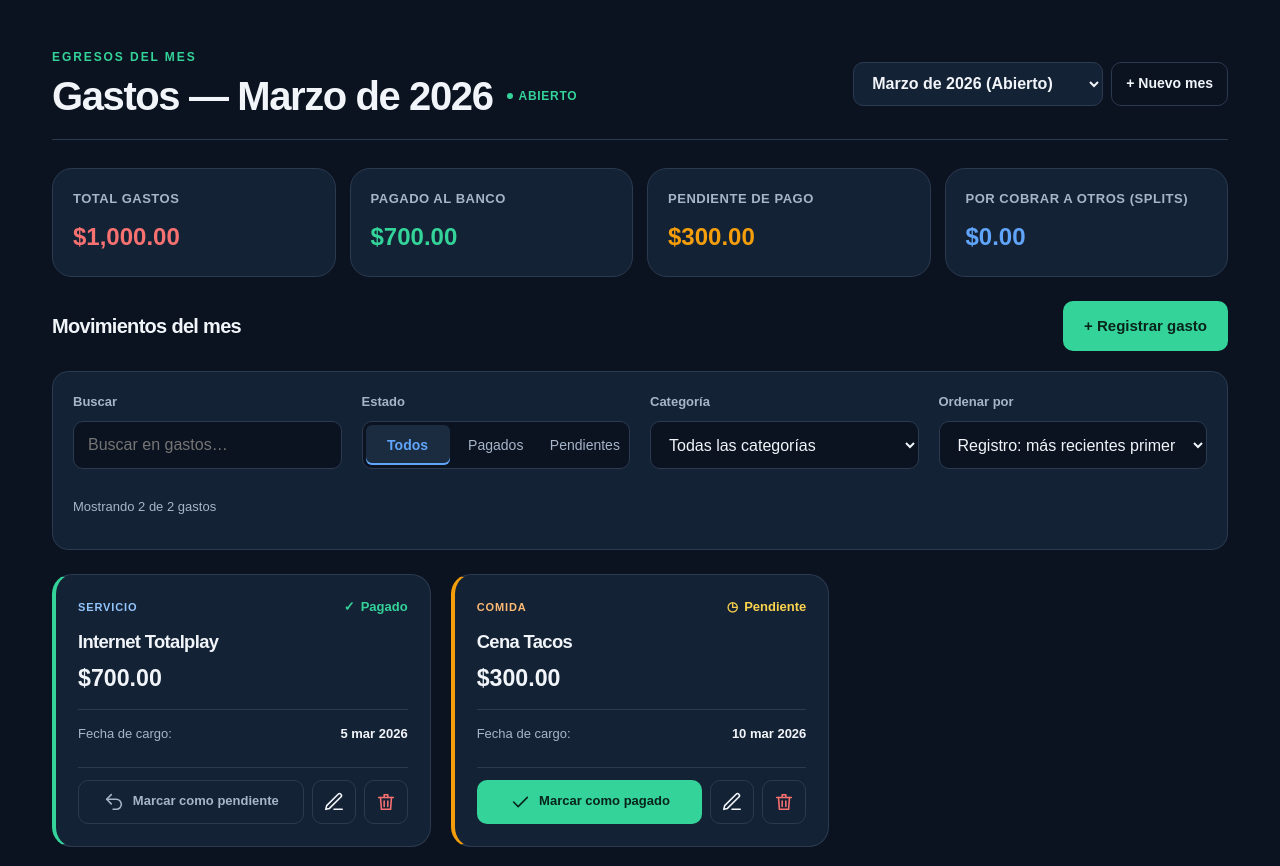
Test: TransactionsList › renders expenses list with metrics, search filter, and shows form when clicking button
Check: the heading "Internet Totalplay" is shown, box [78, 631, 218, 652]
Check: the heading "Cena Tacos" is shown, box [477, 631, 572, 652]
Note: Search filter
Type "Tacos" into the search field named "Buscar gastos". click: (207, 445)
box: [73, 421, 342, 469]
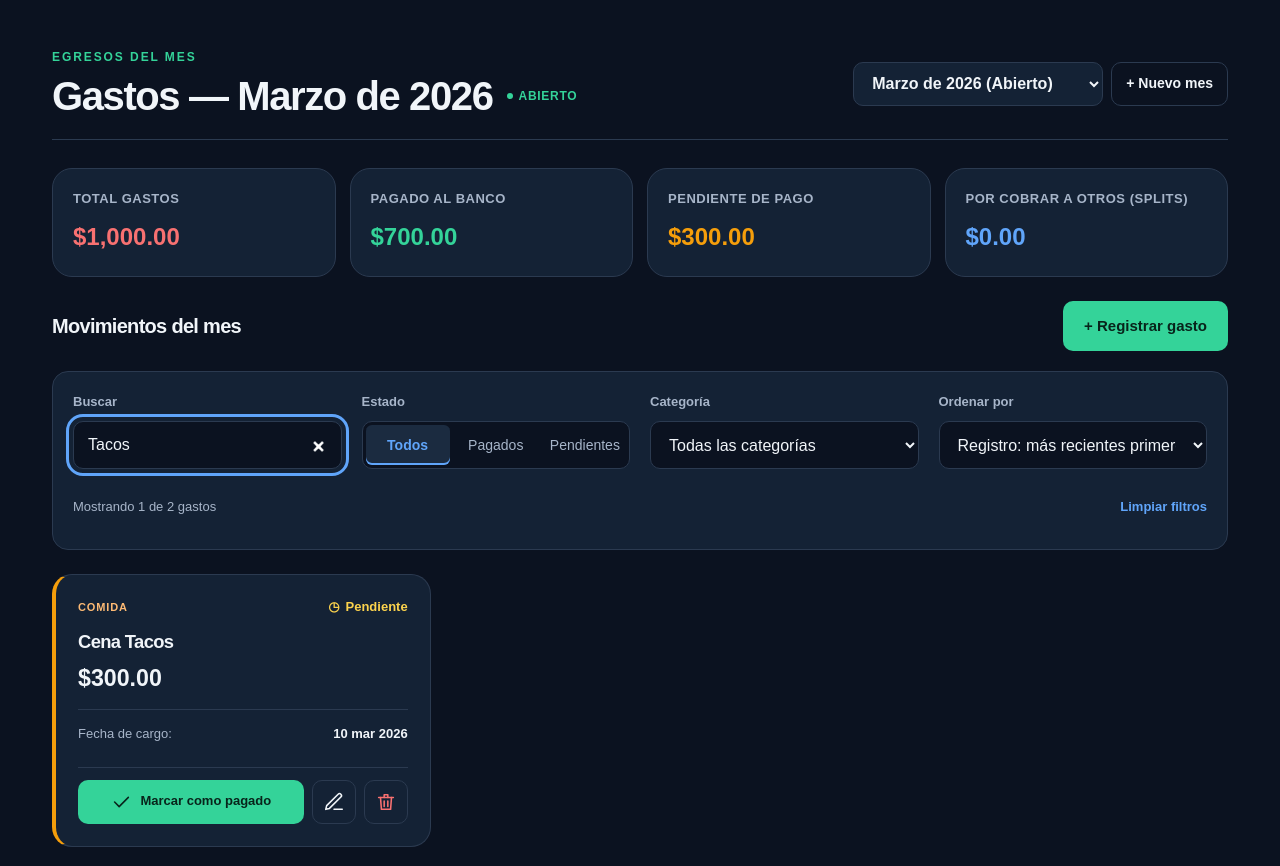
Check: the heading "Cena Tacos" is shown, box [78, 631, 173, 652]
Check: the heading "Internet Totalplay" is gone
Check: the text "Mostrando 1 de 2 gastos" is shown, box [73, 497, 216, 518]
Select "Servicio" in the dropdown labelled "Categoría". click: (784, 445)
box: [650, 421, 918, 469]
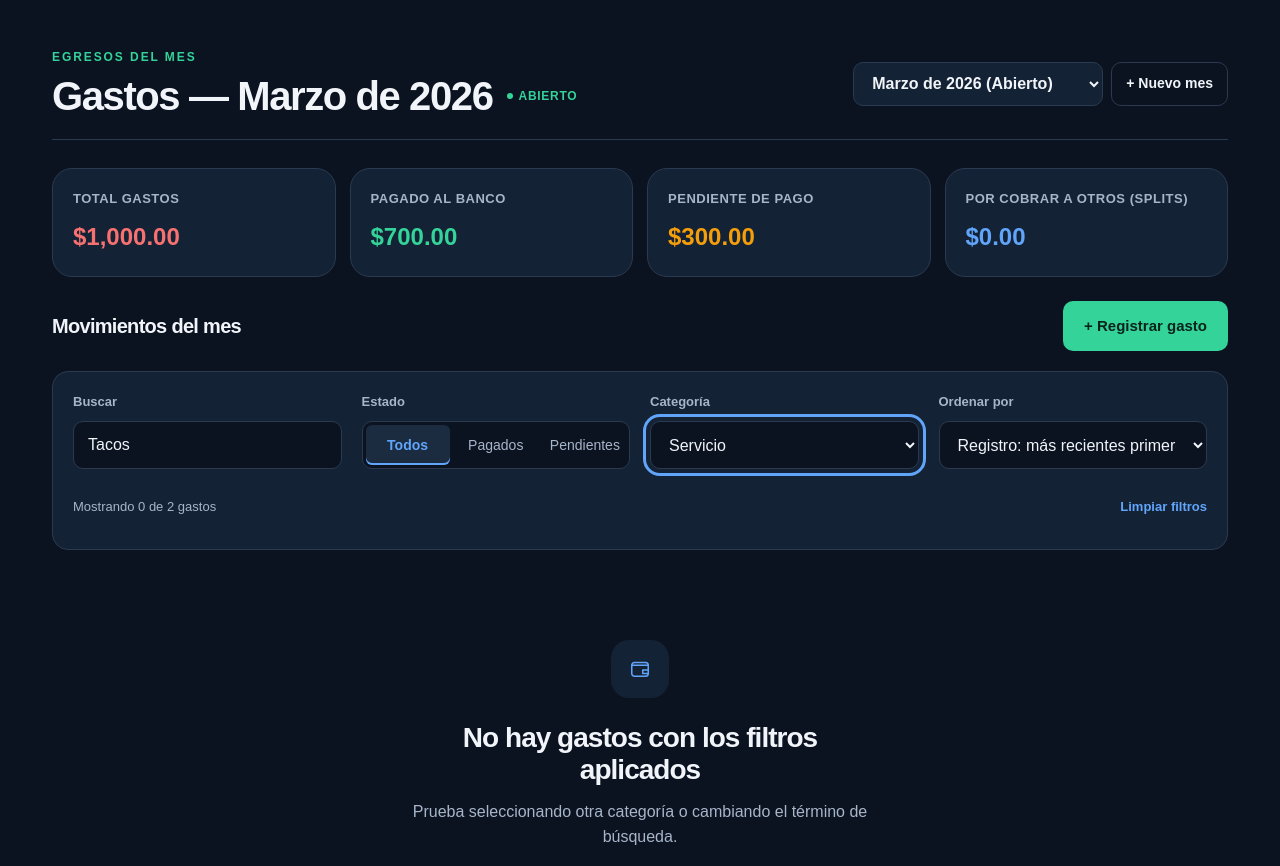
Check: the text "Mostrando 0 de 2 gastos" is shown, box [73, 497, 216, 518]
Click the button "Limpiar filtros". click: (1164, 507)
box: [1120, 485, 1207, 529]
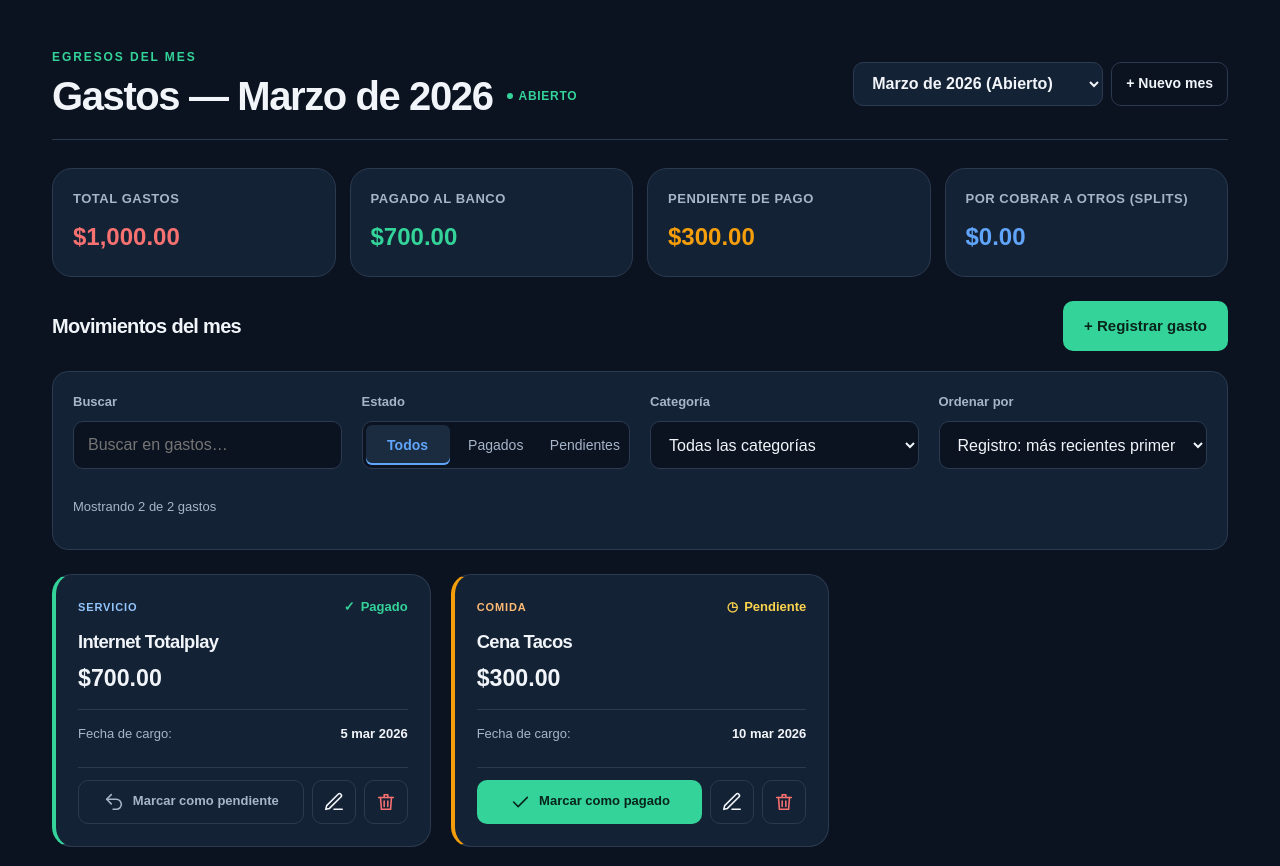
Check: the search field named "Buscar gastos" is empty, box [73, 421, 342, 469]
Check: the text "Mostrando 2 de 2 gastos" is shown, box [73, 497, 216, 518]
Note: Open create form
Click the button "+ Registrar gasto". click: (1146, 326)
box: [1063, 301, 1228, 351]
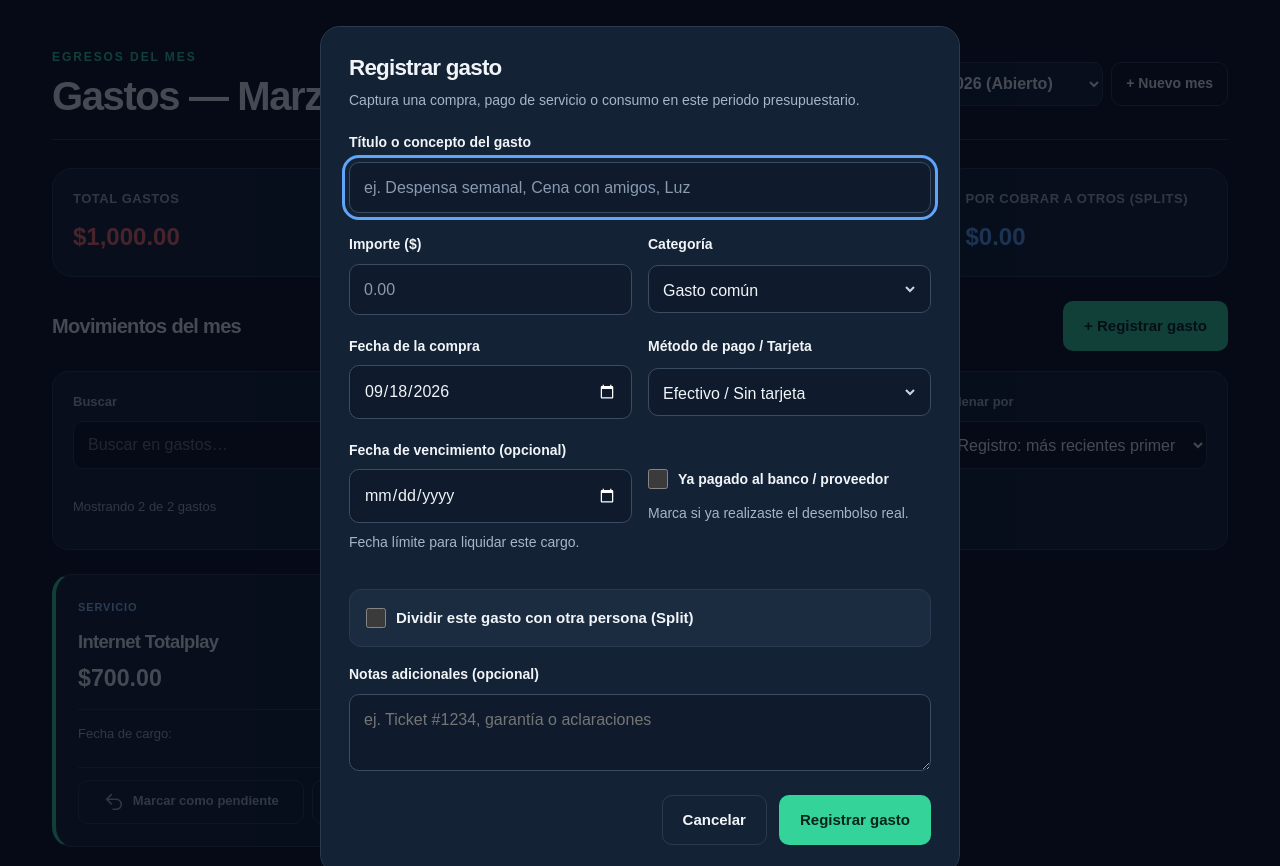
Check: the button "Registrar gasto" is shown, box [779, 795, 931, 845]
